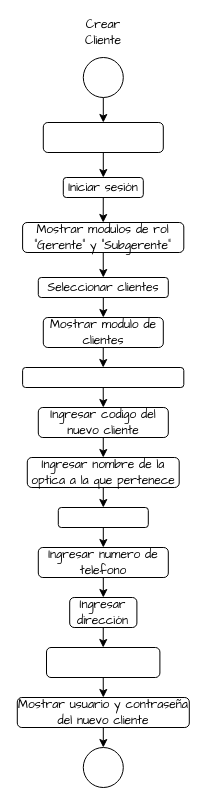
The diagram is 207 pixels wide and 805 high, and some of its shapes have lost their labels. The shapes that lost their labels are listed below. From the top down, each one's box as (x1, y1, x2, y2) in pixels, then its label:
(42, 122, 163, 152): Entrar a la aplicación
(22, 366, 184, 388): Seleccionar "Nuevo cliente"
(57, 506, 148, 528): Ingresar RFC
(46, 646, 160, 678): Cliente creado exitosamente
